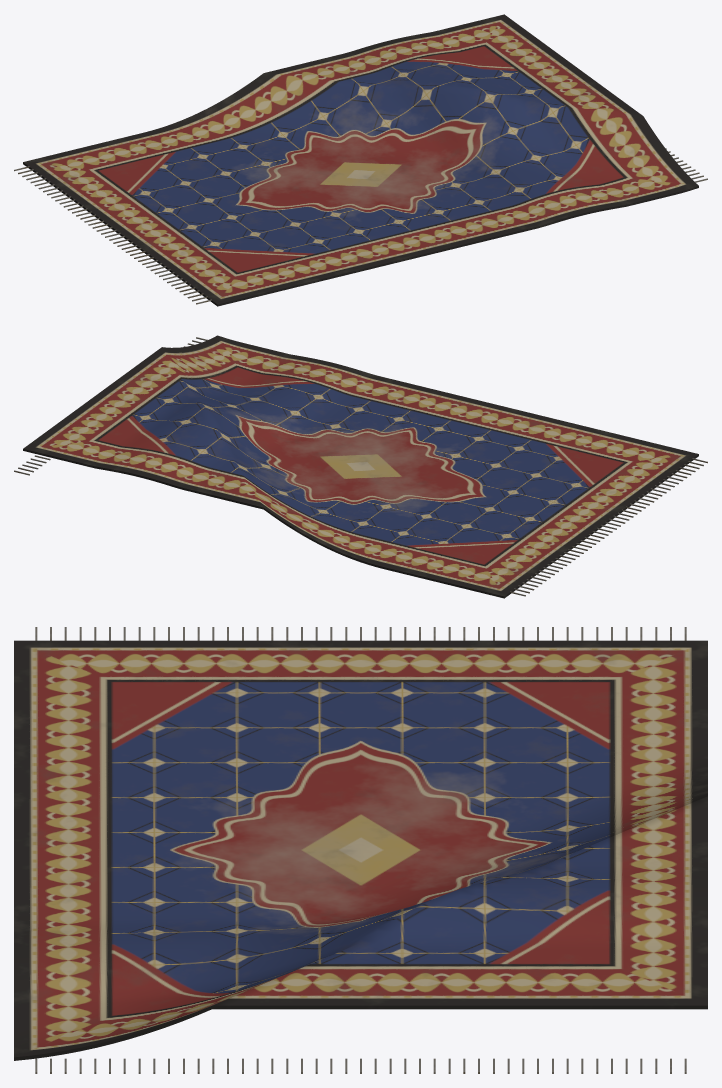
Rendered from SM_Rug_Floor.fbx.
The picture shows the model from 3 angles, top to bottom: view 1: azimuth 30°, elevation 25°; view 2: azimuth 150°, elevation 25°; view 3: azimuth 270°, elevation 25°; orthographic projection. The views are drawn at different scales.
Visible parts, largest first — view 1: SM_Rug_Floor; view 2: SM_Rug_Floor; view 3: SM_Rug_Floor.
Part boxes in pixels (x1,y1,x2,y2): SM_Rug_Floor: (14,14,707,306); SM_Rug_Floor: (14,335,707,598); SM_Rug_Floor: (14,627,707,1073).
Bounding box in the file's own units: 2.12 × 0.1564 × 1.4.
1 material, 1 textured.
